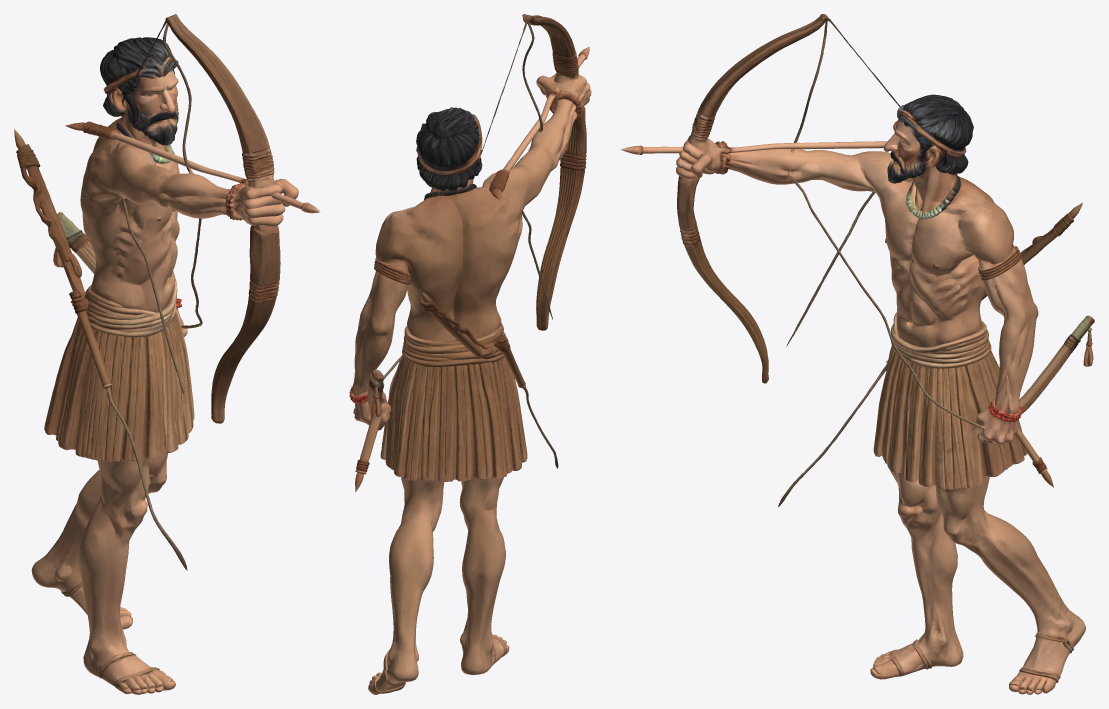
The model's file is crowd_archer_rodin_source.glb.
3 renders of one model, left to right at view 1: azimuth 30°, elevation 25°; view 2: azimuth 150°, elevation 25°; view 3: azimuth 270°, elevation 25°, orthographic. The views are drawn at different scales.
Visible parts, largest first — view 1: model; view 2: model; view 3: model.
Part boxes in pixels (box(x1,y1,x2,y2)): model: box(14, 14, 320, 694); model: box(349, 14, 591, 694); model: box(620, 14, 1094, 694).
Size of the model in its own units: 0.4448 by 1.9 by 1.26.
Materials: 1 (1 with a texture image).
